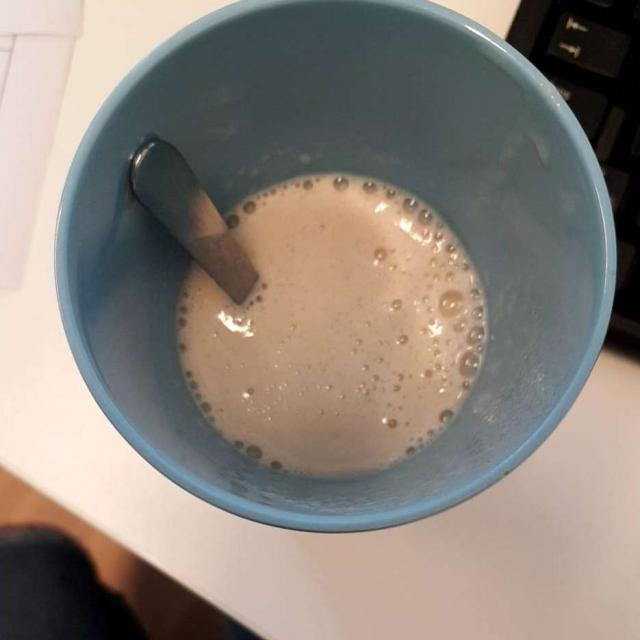milk: (178, 171, 482, 479)
